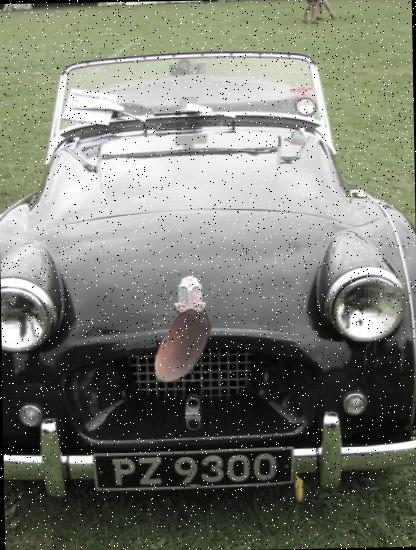Hazelnut: (140, 306, 222, 388)
